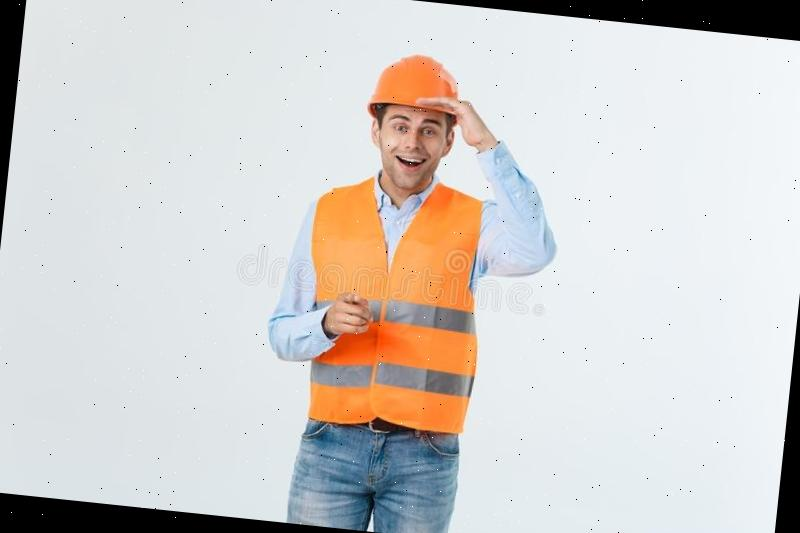helmet: (367, 46, 465, 122)
wear: (288, 176, 497, 441)
